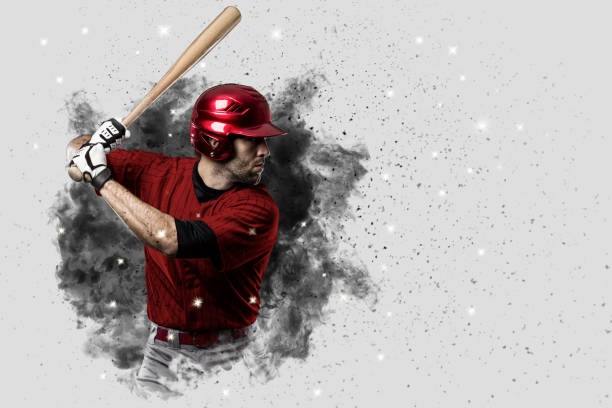bita: (106, 5, 234, 148)
